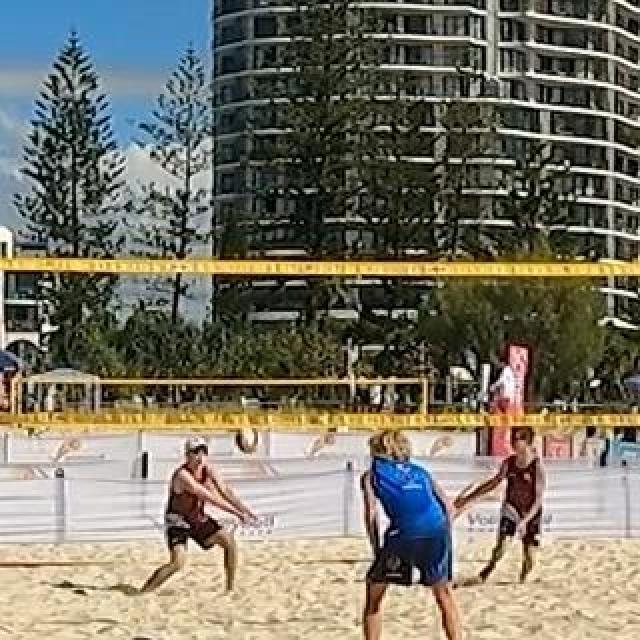volleyball: (236, 432, 258, 452)
